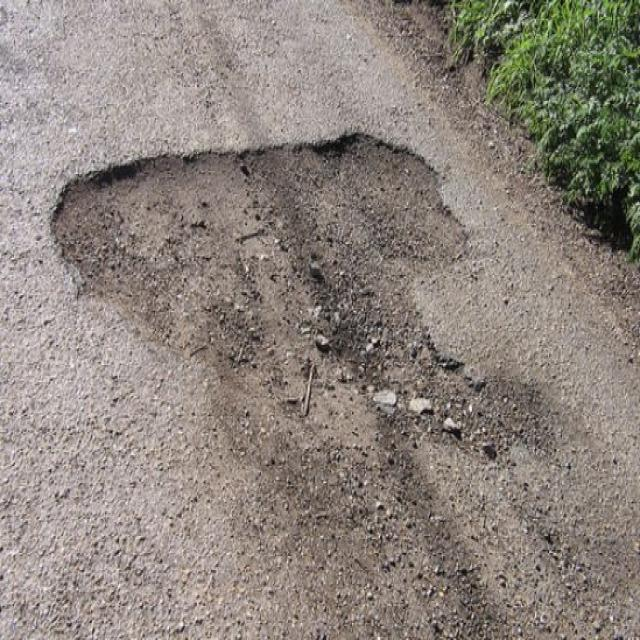pothole: (49, 122, 493, 450)
